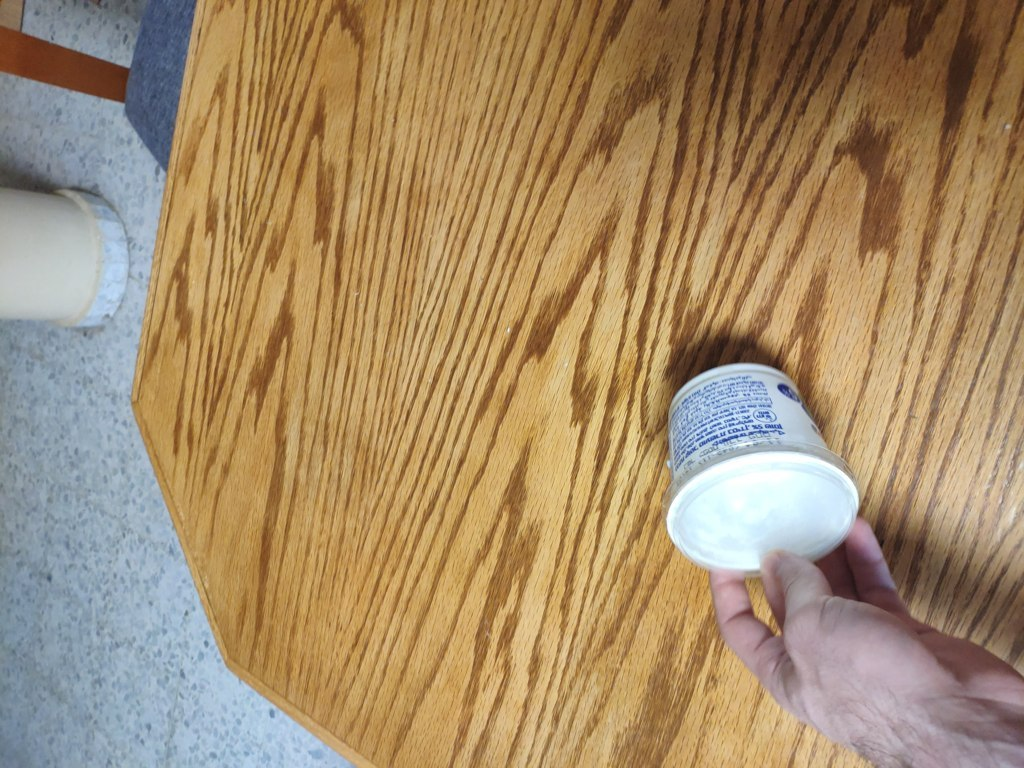Cotage: (665, 354, 888, 588)
